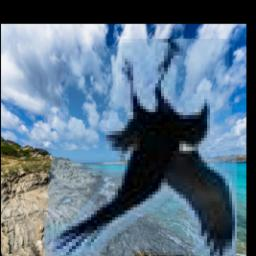Crow: (45, 39, 238, 256)
